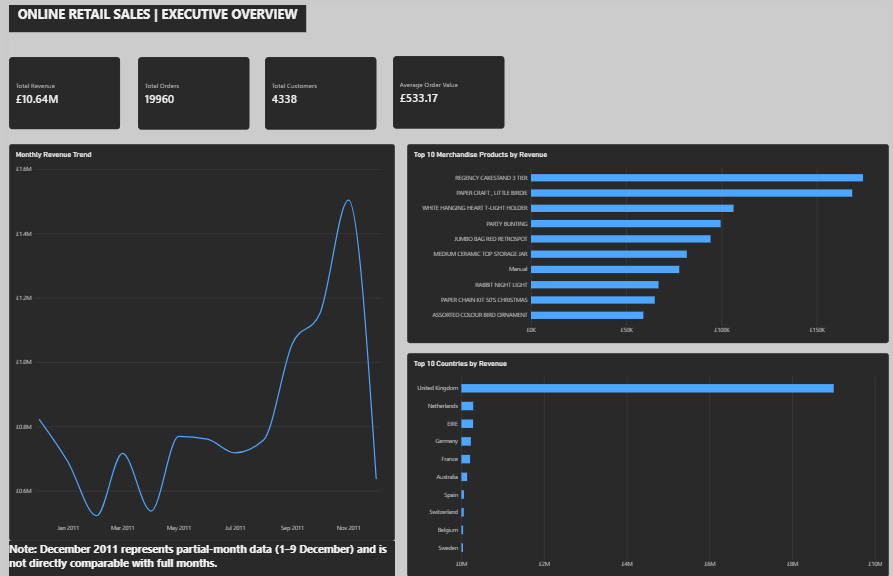

This screenshot's page, from the dashboard's own definition file:
{"tool":"powerbi","page":{"name":"Executive Sales Overview","canvas":[2200,1500],"ordinal":0},"visuals":[{"type":"cardVisual","fields":{"Data":["retail_sales_cleaned.Total Revenue"]},"box":[0,130,278.7,181.7],"z":0},{"type":"cardVisual","fields":{"Data":["retail_sales_cleaned.Total Orders"]},"box":[322.5,130,279,182],"z":1},{"type":"cardVisual","fields":{"Data":["retail_sales_cleaned.Total Customers"]},"box":[640,130,279,182],"z":2},{"type":"cardVisual","fields":{"Data":["retail_sales_cleaned.Average Order Value"]},"box":[960,127.5,279,182],"z":3},{"type":"lineChart","title":"Monthly Revenue Trend","fields":{"Category":["retail_sales_cleaned.InvoiceDate.Variation.Date Hierarchy.Year","retail_sales_cleaned.InvoiceDate.Variation.Date Hierarchy.Month"],"Y":["retail_sales_cleaned.Total Revenue"]},"box":[0,347.5,965,992.5],"z":4},{"type":"clusteredBarChart","title":"Top 10 Merchandise Products by Revenue","fields":{"Category":["retail_sales_cleaned.Description"],"Y":["retail_sales_cleaned.Total Revenue"]},"box":[995,347.5,1205,497.5],"z":5},{"type":"clusteredBarChart","title":"Top 10 Countries by Revenue","fields":{"Category":["retail_sales_cleaned.Country"],"Y":["retail_sales_cleaned.Total Revenue"]},"box":[995,870,1205,560],"z":6},{"type":"textbox","box":[0,1340,965,90],"z":7},{"type":"textbox","box":[0,0,742.5,67.5],"z":8}]}

Visuals, with their boxes in screenshot pixels (x1, y1, x2, y2):
cardVisual - retail_sales_cleaned.Total Revenue: detection(28, 59, 134, 127)
cardVisual - retail_sales_cleaned.Total Orders: detection(150, 59, 256, 128)
cardVisual - retail_sales_cleaned.Total Customers: detection(271, 59, 376, 128)
cardVisual - retail_sales_cleaned.Average Order Value: detection(392, 58, 498, 127)
"Monthly Revenue Trend" lineChart: detection(28, 141, 394, 517)
"Top 10 Merchandise Products by Revenue" clusteredBarChart: detection(405, 141, 862, 330)
"Top 10 Countries by Revenue" clusteredBarChart: detection(405, 339, 862, 552)
textbox: detection(28, 517, 394, 552)
textbox: detection(28, 9, 309, 35)
